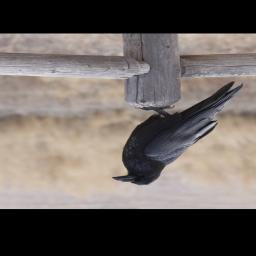Crow: (111, 79, 246, 187)
